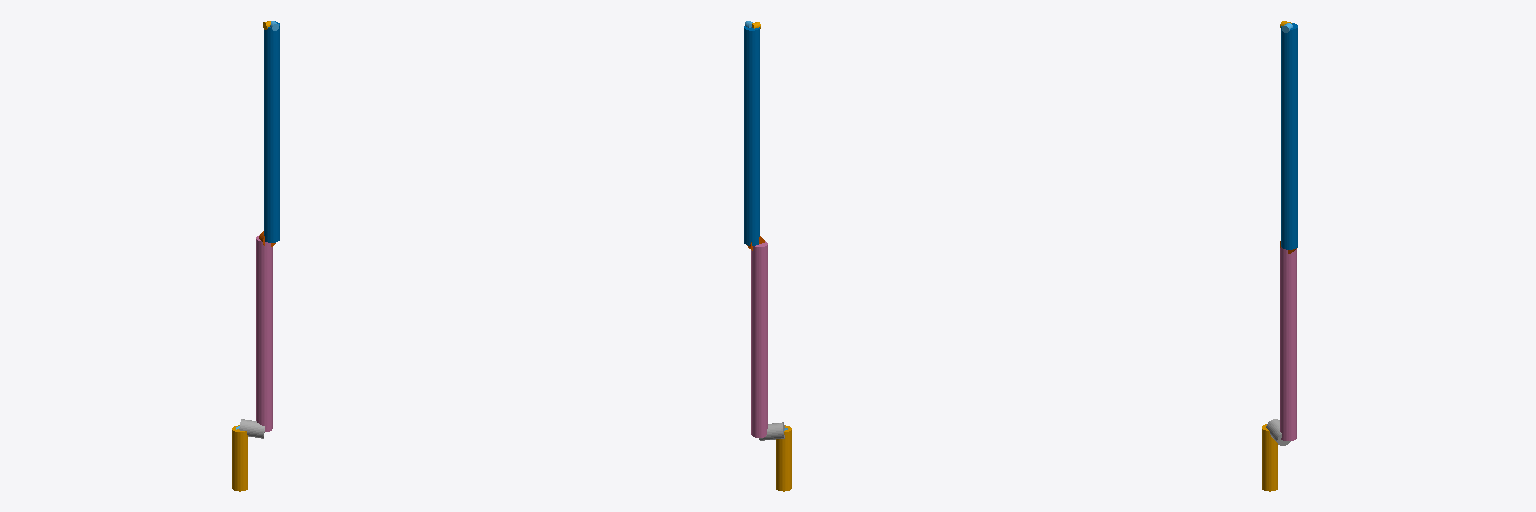
URDF robot description (human_arm):
<?xml version="1.0" encoding="utf-8"?>
<!-- =================================================================================== -->
<!-- |    This document was autogenerated by xacro from human_arm_description.xacro    | -->
<!-- |    EDITING THIS FILE BY HAND IS NOT RECOMMENDED                                 | -->
<!-- =================================================================================== -->
<robot name="human_arm">
  <!--Gazebo link
    <link name="world"/>
    <joint name="joint_world_platform" type="fixed">
        <parent link="world"/>
        <child link="platform"/>
    </joint>-->
  <!--Human arm platform

    <link name="platform">
        <visual>
            <origin xyz="0 0 1"/>
            <geometry>
                <cylinder length="2." radius="1.25"/>
            </geometry>
        </visual>
        <collision>
            <surface>
                <contact>
                    <collide_bitmask>0x01</collide_bitmask>
                </contact>
            </surface>
            <origin xyz="0 0 1"/>
            <geometry>
                <cylinder length="2." radius="1.25"/>
            </geometry>
        </collision>
        <inertial>
            <origin xyz="0 0 1"/>
            <mass value="1000"/>
                <inertia ixx="${1/12 * 1000 * (3*pow(1.25,2) + pow(2,2))}"  ixy="0"  ixz="0" iyy="${1/12 * 1000 * (3*pow(1.25,2) + pow(2,2))}"
                 iyz="0" izz="${1/2 * 1000 * pow(1.25,2)}" />
        </inertial>
    </link>-->
  <link name="base_link">
    <visual>
      <origin rpy="-0.0 -1.57079632679 0.0" xyz="-0.005 0.0 -0.0"/>
      <geometry>
        <cylinder length="0.01" radius="0.005"/>
      </geometry>
    </visual>
    <collision>
      <origin rpy="-0.0 -1.57079632679 0.0" xyz="-0.005 0.0 -0.0"/>
      <geometry>
        <cylinder length="0.01" radius="0.005"/>
      </geometry>
    </collision>
    <inertial>
      <origin rpy="-0.0 -1.57079632679 0.0" xyz="-0.005 0.0 -0.0"/>
      <mass value="0.145298660229"/>
      <inertia ixx="2.118938795e-06" ixy="0" ixz="0" iyy="2.118938795e-06" iyz="0" izz="1.81623325286e-06"/>
    </inertial>
  </link>
  <link name="Scaphant">
    <visual>
      <origin rpy="-0.0 -1.57079632679 0.0" xyz="-0.005 0.0 -0.0"/>
      <geometry>
        <cylinder length="0.01" radius="0.005"/>
      </geometry>
    </visual>
    <collision>
      <origin rpy="-0.0 -1.57079632679 0.0" xyz="-0.005 0.0 -0.0"/>
      <geometry>
        <cylinder length="0.01" radius="0.005"/>
      </geometry>
    </collision>
    <inertial>
      <origin rpy="-0.0 -1.57079632679 0.0" xyz="-0.005 0.0 -0.0"/>
      <mass value="0.145298660229"/>
      <inertia ixx="2.118938795e-06" ixy="0" ixz="0" iyy="2.118938795e-06" iyz="0" izz="1.81623325286e-06"/>
    </inertial>
  </link>
  <link name="Humphant">
    <visual>
      <origin rpy="-0.0 -1.57079632679 0.0" xyz="-0.005 0.0 -0.0"/>
      <geometry>
        <cylinder length="0.01" radius="0.005"/>
      </geometry>
    </visual>
    <collision>
      <origin rpy="-0.0 -1.57079632679 0.0" xyz="-0.005 0.0 -0.0"/>
      <geometry>
        <cylinder length="0.01" radius="0.005"/>
      </geometry>
    </collision>
    <inertial>
      <origin rpy="-0.0 -1.57079632679 0.0" xyz="-0.005 0.0 -0.0"/>
      <mass value="0.145298660229"/>
      <inertia ixx="2.118938795e-06" ixy="0" ixz="0" iyy="2.118938795e-06" iyz="0" izz="1.81623325286e-06"/>
    </inertial>
  </link>
  <link name="Humphant1">
    <visual>
      <origin rpy="-0.0 -1.57079632679 0.0" xyz="-0.005 0.0 -0.0"/>
      <geometry>
        <cylinder length="0.01" radius="0.005"/>
      </geometry>
    </visual>
    <collision>
      <origin rpy="-0.0 -1.57079632679 0.0" xyz="-0.005 0.0 -0.0"/>
      <geometry>
        <cylinder length="0.01" radius="0.005"/>
      </geometry>
    </collision>
    <inertial>
      <origin rpy="-0.0 -1.57079632679 0.0" xyz="-0.005 0.0 -0.0"/>
      <mass value="0.145298660229"/>
      <inertia ixx="2.118938795e-06" ixy="0" ixz="0" iyy="2.118938795e-06" iyz="0" izz="1.81623325286e-06"/>
    </inertial>
  </link>
  <!-- Real links-->
  <link name="Humerus">
    <visual>
      <origin rpy="0.0 -0.0 0.0" xyz="-0.0 0.0 0.1452"/>
      <geometry>
        <cylinder length="0.2904" radius="0.01"/>
      </geometry>
    </visual>
    <collision>
      <origin rpy="0.0 -0.0 0.0" xyz="-0.0 0.0 0.1452"/>
      <geometry>
        <cylinder length="0.2904" radius="0.01"/>
      </geometry>
    </collision>
    <inertial>
      <origin rpy="0.0 -0.0 0.0" xyz="-0.0 0.0 0.1452"/>
      <mass value="16.8778923721"/>
      <inertia ixx="0.119034373975" ixy="0" ixz="0" iyy="0.119034373975" iyz="0" izz="0.000843894618607"/>
    </inertial>
  </link>
  <link name="Ulna">
    <visual>
      <origin rpy="3.14159265359 -0.00483242991587 -3.14159265359" xyz="-0.00305 -3.7351727374e-19 -0.00385"/>
      <geometry>
        <cylinder length="0.00982344135219" radius="0.01"/>
      </geometry>
    </visual>
    <collision>
      <origin rpy="3.14159265359 -0.00483242991587 -3.14159265359" xyz="-0.00305 -3.7351727374e-19 -0.00385"/>
      <geometry>
        <cylinder length="0.00982344135219" radius="0.01"/>
      </geometry>
    </collision>
    <inertial>
      <origin rpy="3.14159265359 -0.00483242991587 -3.14159265359" xyz="-0.00305 -3.7351727374e-19 -0.00385"/>
      <mass value="0.570933146923"/>
      <inertia ixx="1.88645827296e-05" ixy="0" ixz="0" iyy="1.88645827296e-05" iyz="0" izz="2.85466573461e-05"/>
    </inertial>
  </link>
  <link name="Radius">
    <visual>
      <origin rpy="0.0 -0.0 0.0" xyz="0.0 0.0 0.12875"/>
      <geometry>
        <cylinder length="0.2575" radius="0.01"/>
      </geometry>
    </visual>
    <collision>
      <origin rpy="0.0 -0.0 0.0" xyz="0.0 0.0 0.12875"/>
      <geometry>
        <cylinder length="0.2575" radius="0.01"/>
      </geometry>
    </collision>
    <inertial>
      <origin rpy="0.0 -0.0 0.0" xyz="0.0 0.0 0.12875"/>
      <mass value="14.9657620035"/>
      <inertia ixx="0.0830677737873" ixy="0" ixz="0" iyy="0.0830677737873" iyz="0" izz="0.000748288100177"/>
    </inertial>
  </link>
  <link name="Z6">
    <visual>
      <origin rpy="0.00370247507156 -0.00073982569831 -1.32797627839e-06" xyz="-0.00102871725727 -0.00514822695737 0.0146"/>
      <geometry>
        <cylinder length="0.0310304688975" radius="0.01"/>
      </geometry>
    </visual>
    <collision>
      <origin rpy="0.00370247507156 -0.00073982569831 -1.32797627839e-06" xyz="-0.00102871725727 -0.00514822695737 0.0146"/>
      <geometry>
        <cylinder length="0.0310304688975" radius="0.01"/>
      </geometry>
    </collision>
    <inertial>
      <origin rpy="0.00370247507156 -0.00073982569831 -1.32797627839e-06" xyz="-0.00102871725727 -0.00514822695737 0.0146"/>
      <mass value="1.80347422283"/>
      <inertia ixx="0.000189799130106" ixy="0" ixz="0" iyy="0.000189799130106" iyz="0" izz="9.01737111415e-05"/>
    </inertial>
  </link>
  <link name="Hand">
    <visual>
      <origin rpy="-1.57079632679 6.12323399574e-17 -6.12323399574e-17" xyz="2.44929359829e-18 0.04 -0.0"/>
      <geometry>
        <cylinder length="0.08" radius="0.01"/>
      </geometry>
    </visual>
    <collision>
      <origin rpy="-1.57079632679 6.12323399574e-17 -6.12323399574e-17" xyz="2.44929359829e-18 0.04 -0.0"/>
      <geometry>
        <cylinder length="0.08" radius="0.01"/>
      </geometry>
    </collision>
    <inertial>
      <origin rpy="-1.57079632679 6.12323399574e-17 -6.12323399574e-17" xyz="2.44929359829e-18 0.04 -0.0"/>
      <mass value="4.64955712731"/>
      <inertia ixx="0.00259600272942" ixy="0" ixz="0" iyy="0.00259600272942" iyz="0" izz="0.000232477856366"/>
    </inertial>
  </link>
  <!--Added pseudo link properties-->
  <link name="Lunate">
    <visual>
      <origin rpy="-1.57079632679 -1.33168621927 1.33168621927" xyz="-0.00485774559999 0.00118419073033 -0.0"/>
      <geometry>
        <cylinder length="0.01" radius="0.005"/>
      </geometry>
    </visual>
    <collision>
      <origin rpy="-1.57079632679 -1.33168621927 1.33168621927" xyz="-0.00485774559999 0.00118419073033 -0.0"/>
      <geometry>
        <cylinder length="0.01" radius="0.005"/>
      </geometry>
    </collision>
    <inertial>
      <origin rpy="-1.57079632679 -1.33168621927 1.33168621927" xyz="-0.00485774559999 0.00118419073033 -0.0"/>
      <mass value="0.145298660229"/>
      <inertia ixx="2.118938795e-06" ixy="0" ixz="0" iyy="2.118938795e-06" iyz="0" izz="1.81623325286e-06"/>
    </inertial>
  </link>
  <!--Human arm platform joints

    <xacro:DH_joint parent="platform" child ="base_link" joint_t="fixed" d="2" a="-1.26">
        <axis xyz="0 0 0"/>
    </xacro:DH_joint>-->
  <joint name="joint_base_link_Scaphant" type="fixed">
    <parent link="base_link"/>
    <child link="Scaphant"/>
    <origin rpy="0.0 -0.0 1.57079632679" xyz="0.0 -0.0 0.0"/>
  </joint>
  <joint name="joint_Scaphant_Humphant" type="revolute">
    <parent link="Scaphant"/>
    <child link="Humphant"/>
    <origin rpy="0.0 -0.0 0.0" xyz="0.0 -0.0 0.0"/>
    <axis xyz="0 0 1"/>
    <limit effort="1000.0" lower="-1.57079632679" upper="2.26892802759" velocity="0.5"/>
  </joint>
  <transmission name="Scaphant_trans">
    <type>transmission_interface/SimpleTransmission</type>
    <joint name="joint_Scaphant_Humphant">
      <hardwareInterface>hardware_interface/EffortJointInterface</hardwareInterface>
    </joint>
    <actuator name="Scaphant_motor">
      <hardwareInterface>hardware_interface/EffortJointInterface</hardwareInterface>
    </actuator>
  </transmission>
  <joint name="joint_Humphant_Humphant1" type="revolute">
    <parent link="Humphant"/>
    <child link="Humphant1"/>
    <origin rpy="1.57079632679 -0.0 0.0" xyz="0.0 -0.0 0.0"/>
    <axis xyz="0 0 1"/>
    <limit effort="1000.0" lower="0.0" upper="3.14159265359" velocity="0.5"/>
  </joint>
  <transmission name="Humphant_trans">
    <type>transmission_interface/SimpleTransmission</type>
    <joint name="joint_Humphant_Humphant1">
      <hardwareInterface>hardware_interface/EffortJointInterface</hardwareInterface>
    </joint>
    <actuator name="Humphant_motor">
      <hardwareInterface>hardware_interface/EffortJointInterface</hardwareInterface>
    </actuator>
  </transmission>
  <joint name="joint_Humphant1_Humerus" type="revolute">
    <parent link="Humphant1"/>
    <child link="Humerus"/>
    <origin rpy="-0.785398163397 -1.57079632679 -0.785398163397" xyz="0.0 -0.2904 -1.77818715236e-17"/>
    <axis xyz="0 0 1"/>
    <limit effort="1000.0" lower="-3.83972435439" upper="1.91986217719" velocity="0.5"/>
  </joint>
  <transmission name="Humphant1_trans">
    <type>transmission_interface/SimpleTransmission</type>
    <joint name="joint_Humphant1_Humerus">
      <hardwareInterface>hardware_interface/EffortJointInterface</hardwareInterface>
    </joint>
    <actuator name="Humphant1_motor">
      <hardwareInterface>hardware_interface/EffortJointInterface</hardwareInterface>
    </actuator>
  </transmission>
  <joint name="joint_Humerus_Ulna" type="revolute">
    <parent link="Humerus"/>
    <child link="Ulna"/>
    <origin rpy="1.57079632679 1.22464679915e-16 3.14159265359" xyz="-0.0061 0.0077 4.71489017672e-19"/>
    <axis xyz="0 0 1"/>
    <limit effort="1000.0" lower="0.0" upper="2.26892802759" velocity="0.5"/>
  </joint>
  <transmission name="Humerus_trans">
    <type>transmission_interface/SimpleTransmission</type>
    <joint name="joint_Humerus_Ulna">
      <hardwareInterface>hardware_interface/EffortJointInterface</hardwareInterface>
    </joint>
    <actuator name="Humerus_motor">
      <hardwareInterface>hardware_interface/EffortJointInterface</hardwareInterface>
    </actuator>
  </transmission>
  <joint name="joint_Ulna_Radius" type="revolute">
    <parent link="Ulna"/>
    <child link="Radius"/>
    <origin rpy="1.57079632679 -0.973893722613 -3.14159265359" xyz="0.0 -0.2575 -1.5767327539e-17"/>
    <axis xyz="0 0 1"/>
    <limit effort="1000.0" lower="-1.57079632679" upper="1.57079632679" velocity="0.5"/>
  </joint>
  <transmission name="Ulna_trans">
    <type>transmission_interface/SimpleTransmission</type>
    <joint name="joint_Ulna_Radius">
      <hardwareInterface>hardware_interface/EffortJointInterface</hardwareInterface>
    </joint>
    <actuator name="Ulna_motor">
      <hardwareInterface>hardware_interface/EffortJointInterface</hardwareInterface>
    </actuator>
  </transmission>
  <joint name="joint_Radius_Z6" type="revolute">
    <parent link="Radius"/>
    <child link="Z6"/>
    <origin rpy="-2.18090776315 -1.33165554748 -2.54497002525" xyz="-0.0105 0.0289298369418 0.00396289471508"/>
    <axis xyz="0 0 1"/>
    <limit effort="1000.0" lower="-0.174532925199" upper="0.436332312999" velocity="0.5"/>
  </joint>
  <transmission name="Radius_trans">
    <type>transmission_interface/SimpleTransmission</type>
    <joint name="joint_Radius_Z6">
      <hardwareInterface>hardware_interface/EffortJointInterface</hardwareInterface>
    </joint>
    <actuator name="Radius_motor">
      <hardwareInterface>hardware_interface/EffortJointInterface</hardwareInterface>
    </actuator>
  </transmission>
  <joint name="joint_Z6_Lunate" type="revolute">
    <parent link="Z6"/>
    <child link="Lunate"/>
    <origin rpy="-2.54422044057 0.13626609681 -0.197095295237" xyz="0.0 0.0 -0.0"/>
    <axis xyz="0 0 1"/>
    <limit effort="1000.0" lower="-0.610865238198" upper="0.610865238198" velocity="0.5"/>
  </joint>
  <transmission name="Z6_trans">
    <type>transmission_interface/SimpleTransmission</type>
    <joint name="joint_Z6_Lunate">
      <hardwareInterface>hardware_interface/EffortJointInterface</hardwareInterface>
    </joint>
    <actuator name="Z6_motor">
      <hardwareInterface>hardware_interface/EffortJointInterface</hardwareInterface>
    </actuator>
  </transmission>
  <joint name="joint_Lunate_Hand" type="fixed">
    <parent link="Lunate"/>
    <child link="Hand"/>
    <origin rpy="-0.785398163397 -1.57079632679 -0.785398163397" xyz="-0.08 0.0 0.0"/>
  </joint>
  <!-- ros_control plugin -->
  <gazebo>
    <plugin filename="libgazebo_ros_control.so" name="gazebo_ros_control">
        </plugin>
  </gazebo>
  <!-- 
    <gazebo reference="platform">
        <selfCollide>0</selfCollide>
    </gazebo>
-->
  <gazebo reference="base_link">
    <gravity>0</gravity>
    <selfCollide>0</selfCollide>
    <material>Gazebo/Orange</material>
    <collision>
      <surface>
        <contact>
          <collide_bitmask>0x01</collide_bitmask>
        </contact>
      </surface>
    </collision>
  </gazebo>
  <gazebo reference="Scaphant">
    <gravity>0</gravity>
    <selfCollide>0</selfCollide>
    <material>Gazebo/Orange</material>
    <collision>
      <surface>
        <contact>
          <collide_bitmask>0x01</collide_bitmask>
        </contact>
      </surface>
    </collision>
  </gazebo>
  <gazebo reference="Humphant">
    <gravity>0</gravity>
    <selfCollide>0</selfCollide>
    <material>Gazebo/Orange</material>
    <collision>
      <surface>
        <contact>
          <collide_bitmask>0x01</collide_bitmask>
        </contact>
      </surface>
    </collision>
  </gazebo>
  <gazebo reference="Humphant1">
    <gravity>0</gravity>
    <selfCollide>0</selfCollide>
    <material>Gazebo/Orange</material>
    <collision>
      <surface>
        <contact>
          <collide_bitmask>0x01</collide_bitmask>
        </contact>
      </surface>
    </collision>
  </gazebo>
  <gazebo reference="Humerus">
    <gravity>0</gravity>
    <selfCollide>0</selfCollide>
    <material>Gazebo/Orange</material>
    <collision>
      <surface>
        <contact>
          <collide_bitmask>0x01</collide_bitmask>
        </contact>
      </surface>
    </collision>
  </gazebo>
  <gazebo reference="Ulna">
    <gravity>0</gravity>
    <selfCollide>0</selfCollide>
    <material>Gazebo/Orange</material>
    <collision>
      <surface>
        <contact>
          <collide_bitmask>0x01</collide_bitmask>
        </contact>
      </surface>
    </collision>
  </gazebo>
  <gazebo reference="Radius">
    <gravity>0</gravity>
    <selfCollide>0</selfCollide>
    <material>Gazebo/Orange</material>
    <collision>
      <surface>
        <contact>
          <collide_bitmask>0x01</collide_bitmask>
        </contact>
      </surface>
    </collision>
  </gazebo>
  <gazebo reference="Z6">
    <gravity>0</gravity>
    <selfCollide>0</selfCollide>
    <material>Gazebo/Orange</material>
    <collision>
      <surface>
        <contact>
          <collide_bitmask>0x01</collide_bitmask>
        </contact>
      </surface>
    </collision>
  </gazebo>
  <gazebo reference="Lunate">
    <gravity>0</gravity>
    <selfCollide>0</selfCollide>
    <material>Gazebo/Orange</material>
    <collision>
      <surface>
        <contact>
          <collide_bitmask>0x01</collide_bitmask>
        </contact>
      </surface>
    </collision>
  </gazebo>
  <gazebo reference="Hand">
    <gravity>0</gravity>
    <selfCollide>0</selfCollide>
    <material>Gazebo/Orange</material>
    <collision>
      <surface>
        <contact>
          <collide_bitmask>0x01</collide_bitmask>
        </contact>
      </surface>
    </collision>
  </gazebo>
  <gazebo reference="joint_platform_base_link">
    <implicitSpringDamper>True</implicitSpringDamper>
  </gazebo>
  <gazebo reference="joint_base_link_Scaphant">
    <implicitSpringDamper>True</implicitSpringDamper>
  </gazebo>
  <gazebo reference="joint_Scaphant_Humphant">
    <implicitSpringDamper>True</implicitSpringDamper>
  </gazebo>
  <gazebo reference="joint_Humphant_Humphant1">
    <implicitSpringDamper>True</implicitSpringDamper>
  </gazebo>
  <gazebo reference="joint_Humphant1_Humerus">
    <implicitSpringDamper>True</implicitSpringDamper>
  </gazebo>
  <gazebo reference="joint_Humerus_Ulna">
    <implicitSpringDamper>True</implicitSpringDamper>
  </gazebo>
  <gazebo reference="joint_Ulna_Radius">
    <implicitSpringDamper>True</implicitSpringDamper>
  </gazebo>
  <gazebo reference="joint_Radius_Z6">
    <implicitSpringDamper>True</implicitSpringDamper>
  </gazebo>
  <gazebo reference="joint_Z6_Lunate">
    <implicitSpringDamper>True</implicitSpringDamper>
  </gazebo>
  <gazebo reference="joint_Lunate_Hand">
    <implicitSpringDamper>True</implicitSpringDamper>
  </gazebo>
</robot>

--- Render facts (derived) ---
Views: 3 orthographic renders of the robot side by side, from view 1: azimuth 30°, elevation 25°; view 2: azimuth 210°, elevation 25°; view 3: azimuth 330°, elevation 25°.
Model human_arm with 10 links and 9 joints (7 revolute, 2 fixed), rooted at base_link, posed every joint at zero.
Links seen in each view (by area): view 1: Humerus, Radius, Hand; view 2: Humerus, Radius, Hand; view 3: Humerus, Radius, Hand.
Boxes of the visible links, bbox=[...] form: Humerus: bbox=[264, 21, 279, 242]; Radius: bbox=[256, 235, 272, 431]; Hand: bbox=[232, 425, 247, 491]; Humerus: bbox=[744, 26, 759, 245]; Radius: bbox=[751, 241, 767, 437]; Hand: bbox=[776, 425, 791, 491]; Humerus: bbox=[1281, 23, 1297, 249]; Radius: bbox=[1280, 247, 1296, 440]; Hand: bbox=[1262, 424, 1277, 491].
Size in the robot's own frame: 0.0559 by 0.0384 by 0.6289 metres.
Geometry: primitives only (box / cylinder / sphere), no mesh files.
